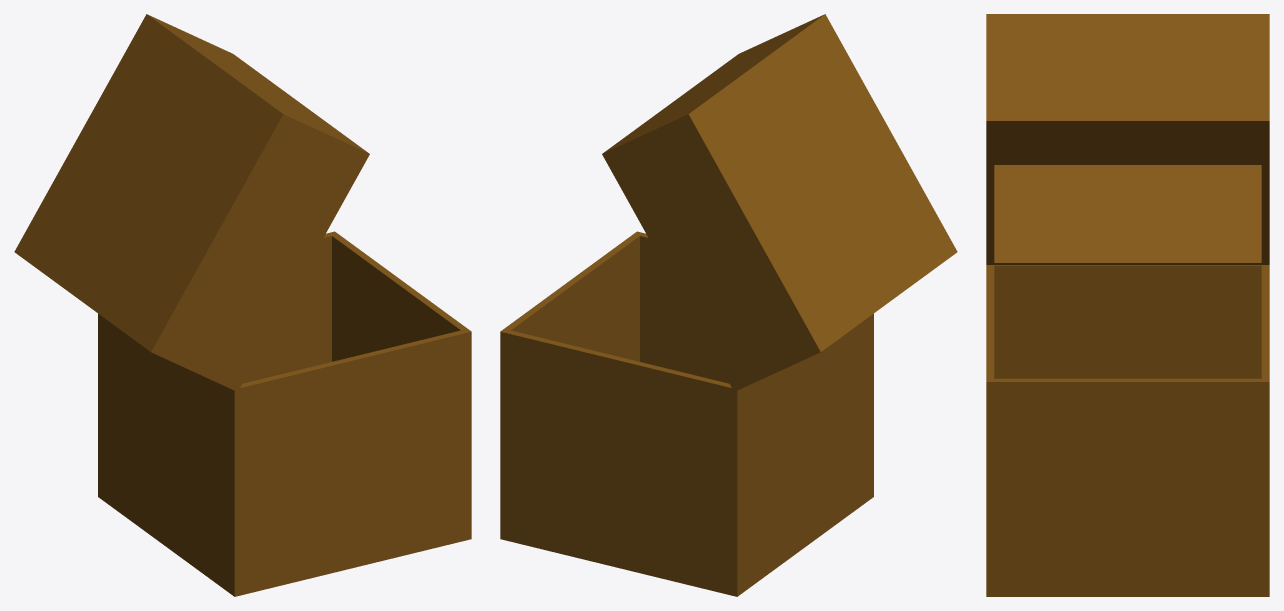
Rendered from chest.glb.
3 renders of one model, left to right at view 1: azimuth 30°, elevation 25°; view 2: azimuth 150°, elevation 25°; view 3: azimuth 270°, elevation 25°, orthographic. The views are drawn at different scales.
Parts seen in each view (by area): view 1: Cube, Cube.001; view 2: Cube, Cube.001; view 3: Cube, Cube.001.
Boxes of the visible parts, <box> form: Cube: <box>98,231,471,596</box>; Cube.001: <box>14,14,369,390</box>; Cube: <box>500,231,873,596</box>; Cube.001: <box>602,14,957,390</box>; Cube: <box>986,265,1269,596</box>; Cube.001: <box>986,14,1269,264</box>.
Size of the model in its own units: 2.71 by 3.8 by 2.
